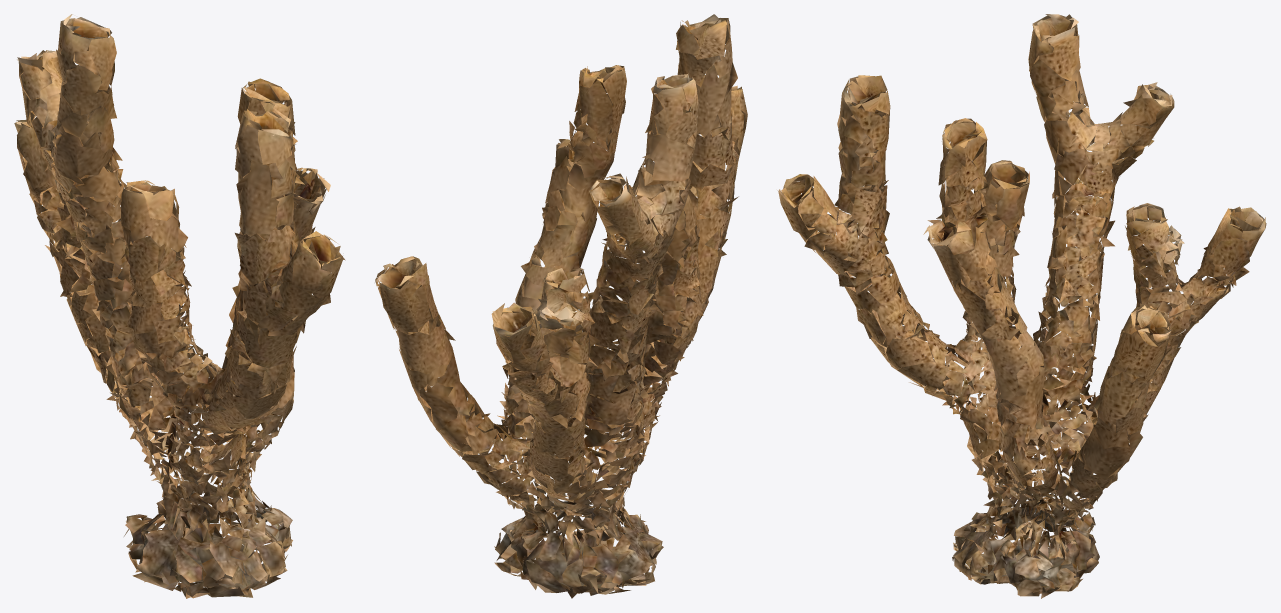
Rendered from sponge2.glb.
3 renders of one model, left to right at view 1: azimuth 30°, elevation 25°; view 2: azimuth 150°, elevation 25°; view 3: azimuth 270°, elevation 25°, orthographic. The views are drawn at different scales.
Visible parts, largest first — view 1: Mesh_0; view 2: Mesh_0; view 3: Mesh_0.
Boxes of the visible parts, x1,y1,x2,y2 form: Mesh_0: (14, 14, 345, 598); Mesh_0: (375, 14, 747, 598); Mesh_0: (777, 14, 1266, 598).
Size of the model in its own units: 0.5302 by 1.02 by 0.8927.
1 material, 1 textured.
